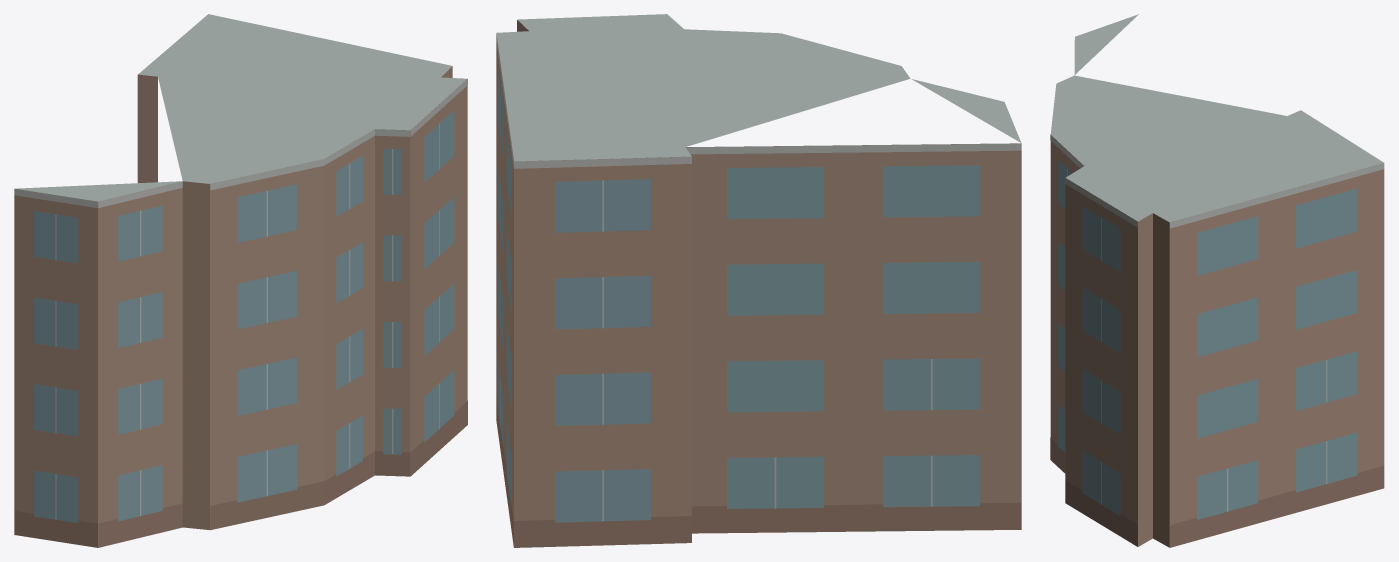
Rendered from survey-upis-32651693.glb.
3 renders of one model, left to right at view 1: azimuth 30°, elevation 25°; view 2: azimuth 150°, elevation 25°; view 3: azimuth 270°, elevation 25°, orthographic. The views are drawn at different scales.
Visible parts, largest first — view 1: survey-upis-32651693.tmp; view 2: survey-upis-32651693.tmp; view 3: survey-upis-32651693.tmp.
Part boxes in pixels (x1,y1,x2,y2): survey-upis-32651693.tmp: (14,14,467,547); survey-upis-32651693.tmp: (496,14,1021,547); survey-upis-32651693.tmp: (1050,14,1384,547).
Size of the model in its own units: 17.59 by 12.8 by 11.91.
